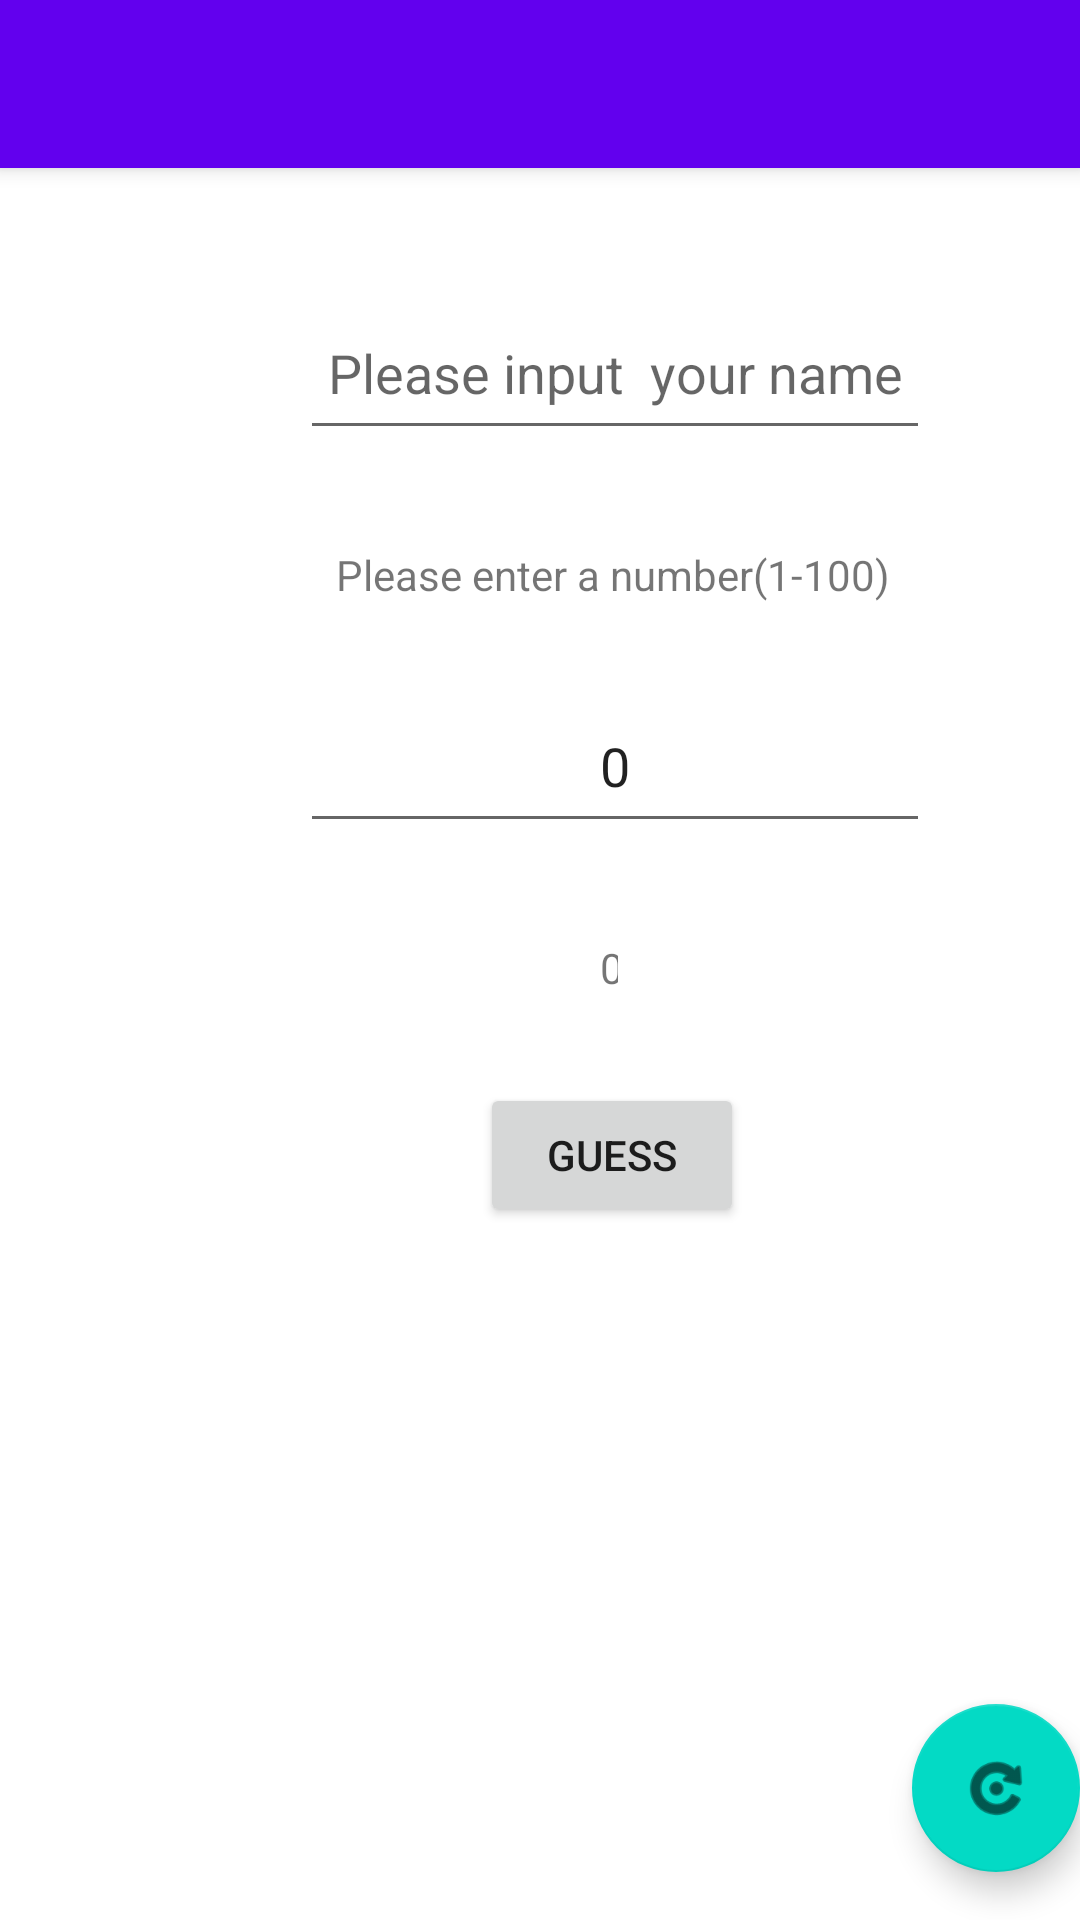

Icons on this 1080*1920 Android screen, each with the point to tap as point (x, y):
rotate: point (996, 1788)
